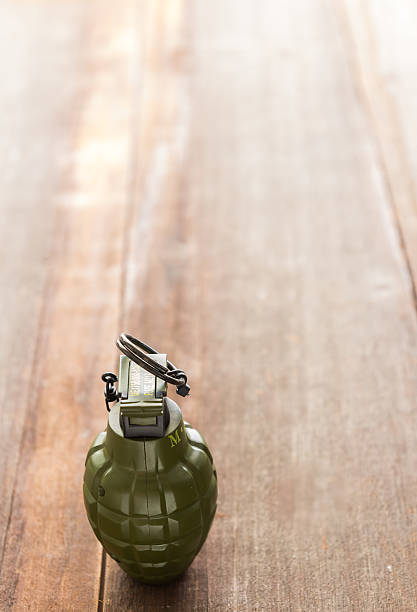e1: (85, 338, 222, 592)
